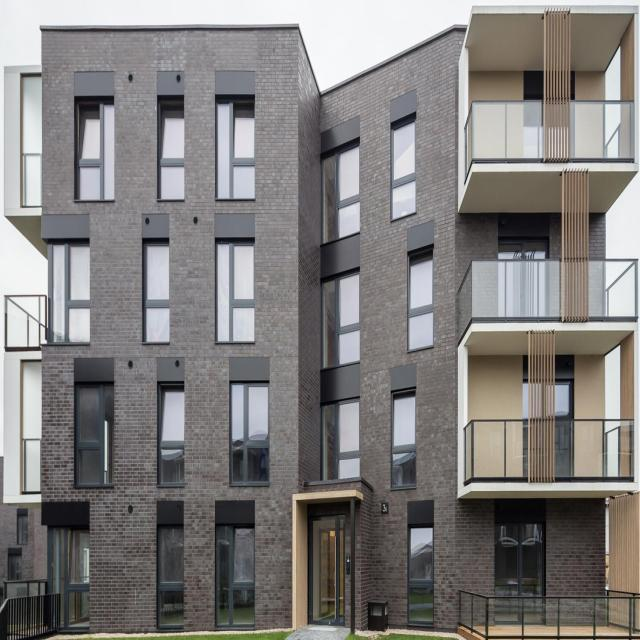door: (311, 516, 344, 625)
railing: (459, 257, 562, 342), (462, 590, 639, 637), (466, 98, 543, 177), (465, 418, 529, 485), (571, 98, 637, 157), (590, 256, 638, 317), (5, 294, 48, 344)
window: (557, 421, 635, 475), (322, 143, 361, 245), (53, 530, 92, 630), (217, 526, 256, 626), (53, 242, 91, 341), (233, 383, 271, 481), (218, 241, 255, 341), (323, 271, 361, 368), (219, 102, 256, 198), (79, 385, 114, 485), (496, 523, 543, 596), (80, 104, 115, 200), (322, 397, 360, 482), (408, 526, 435, 630), (23, 78, 44, 204), (409, 250, 434, 351), (392, 120, 417, 220), (392, 390, 417, 486), (161, 104, 186, 199), (147, 244, 171, 341), (160, 529, 184, 625), (162, 387, 186, 481), (556, 381, 575, 421), (525, 380, 529, 419)
